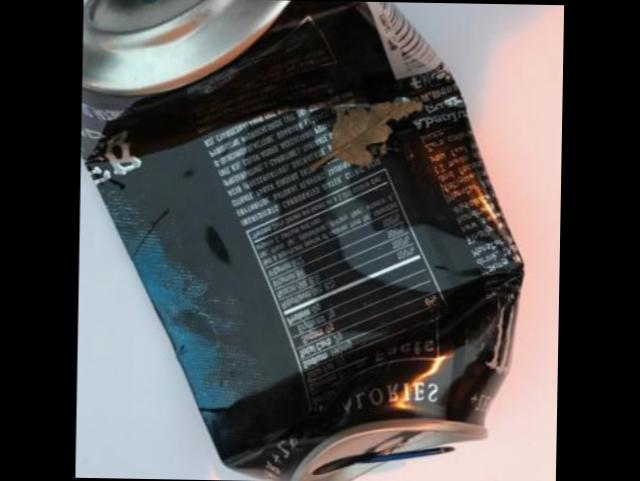metal: (82, 0, 524, 481)
